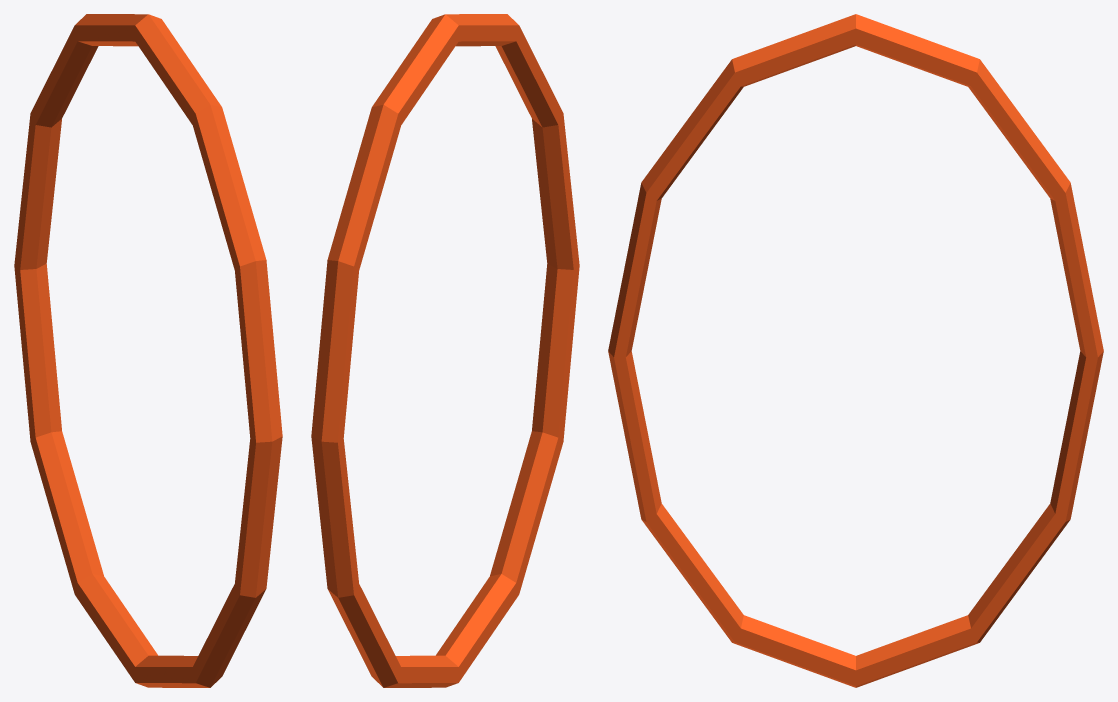
The model's file is orangePortal.glb.
The picture shows the model from 3 angles, left to right: view 1: azimuth 30°, elevation 25°; view 2: azimuth 150°, elevation 25°; view 3: azimuth 270°, elevation 25°; orthographic projection.
Visible parts, largest first — view 1: Torus; view 2: Torus; view 3: Torus.
Part boxes in pixels (box(x1,y1,x2,y2)): Torus: box(14, 14, 282, 687); Torus: box(311, 14, 579, 687); Torus: box(608, 14, 1103, 687).
Bounding box in the file's own units: 0.2598 × 6.3 × 4.2.
1 material, 1 textured.
